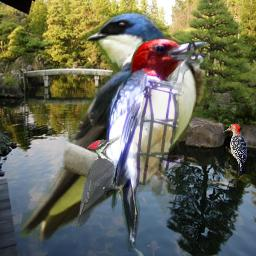Swallow: (18, 10, 208, 243)
Woodpecker: (102, 36, 213, 252), (72, 135, 124, 227), (223, 123, 247, 176)
